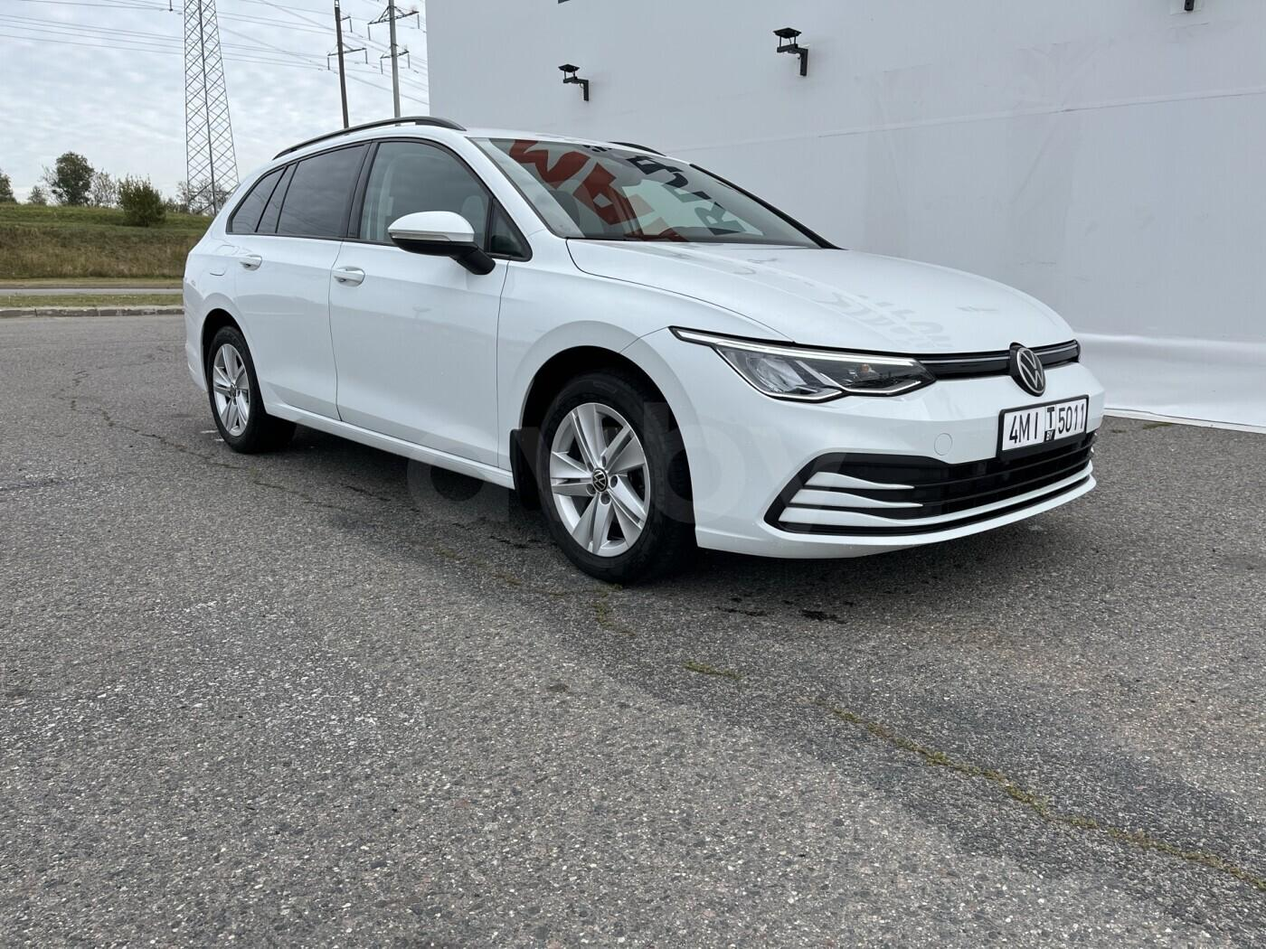Golf_2019: (179, 121, 1112, 575)
